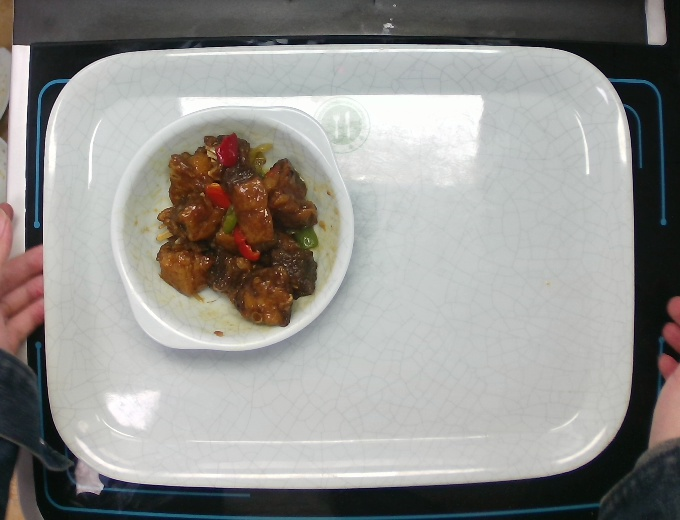JYsf-Shuang_Er_Wan: (106, 97, 358, 355)
